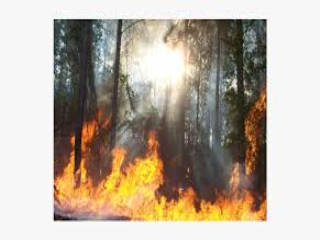fire: (59, 121, 264, 223)
